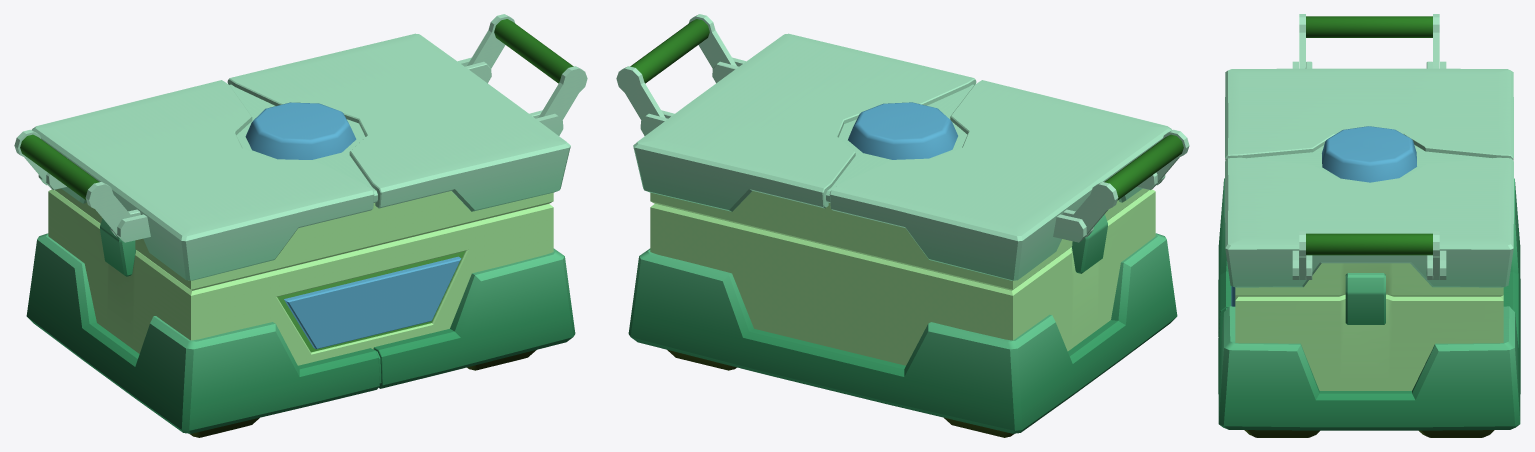
Rendered from SM_Coffre_02.fbx.
3 renders of one model, left to right at view 1: azimuth 30°, elevation 25°; view 2: azimuth 150°, elevation 25°; view 3: azimuth 270°, elevation 25°, orthographic. The views are drawn at different scales.
Parts seen in each view (by area): view 1: Coffre_02_Haut, Coffre_02_Bas; view 2: Coffre_02_Haut, Coffre_02_Bas; view 3: Coffre_02_Haut, Coffre_02_Bas.
Part boxes in pixels (x1,y1,x2,y2): Coffre_02_Haut: [14, 14, 587, 290]; Coffre_02_Bas: [26, 189, 575, 437]; Coffre_02_Haut: [616, 14, 1189, 290]; Coffre_02_Bas: [628, 189, 1177, 437]; Coffre_02_Haut: [1225, 14, 1513, 324]; Coffre_02_Bas: [1218, 178, 1520, 437].
Bounding box in the file's own units: 5.82 × 2.85 × 3.25.
